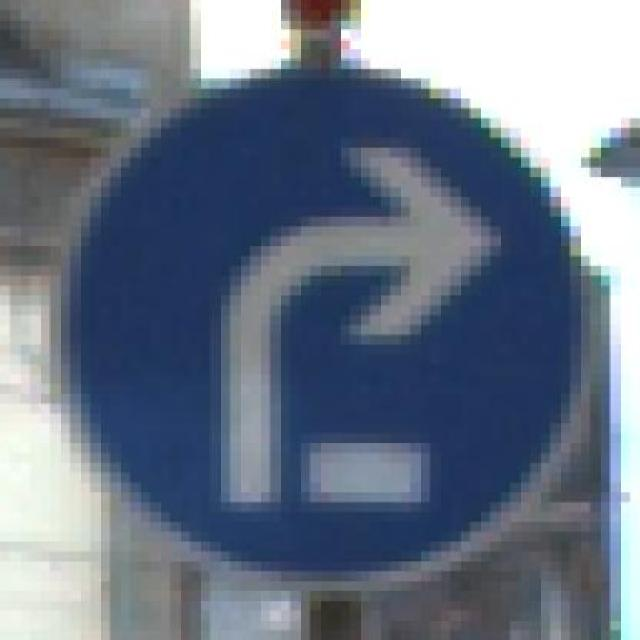Turn right ahead: (40, 49, 620, 591)
